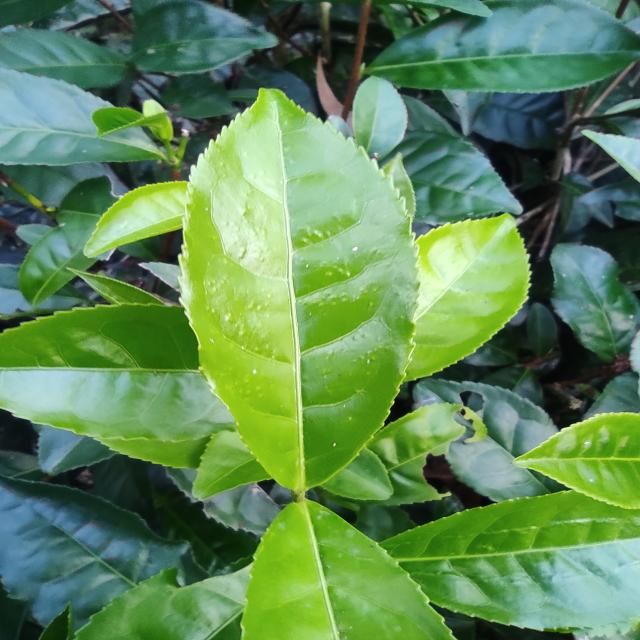Category D(7+ days, Not for Tea): (160, 58, 432, 496)
